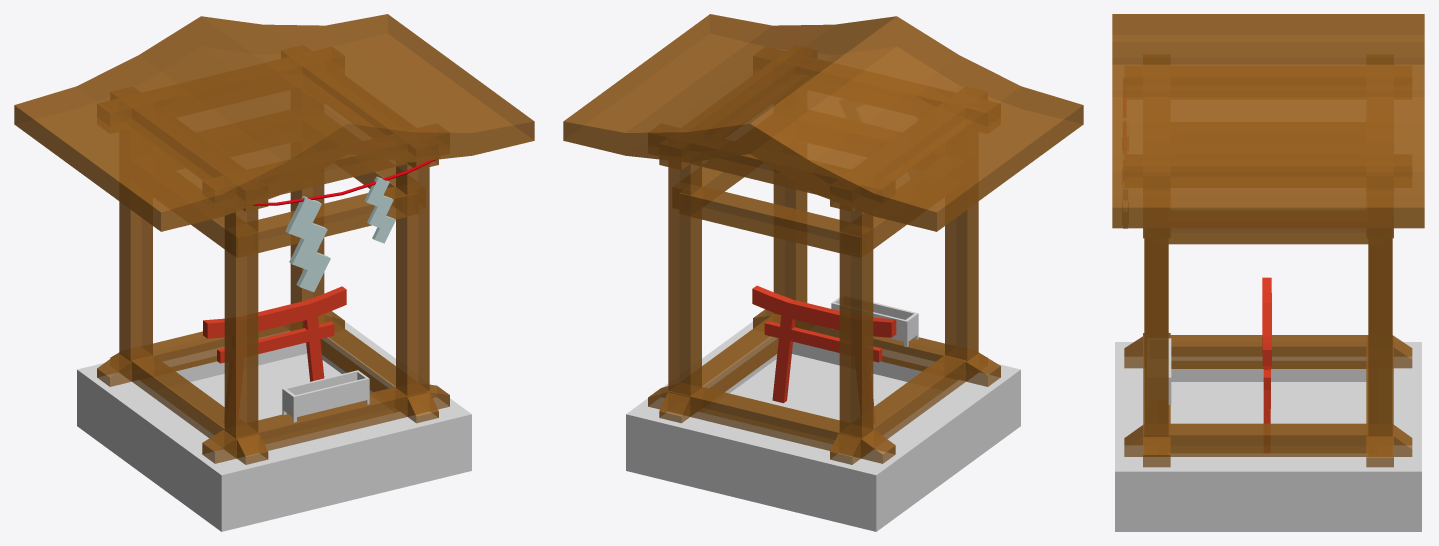
File: Japanese_1.fbx
3 renders of one model, left to right at view 1: azimuth 30°, elevation 25°; view 2: azimuth 150°, elevation 25°; view 3: azimuth 270°, elevation 25°, orthographic. The views are drawn at different scales.
Visible parts, largest first — view 1: Cube.017, Cube, Cube.001, Cube.002, Cube.007, Cube.004, Cube.005, Cube.011, Cube.015, Cube.013, Cube.014, Cube.006 (+12 smaller); view 2: Cube.017, Cube, Cube.004, Cube.003, Cube.008, Cube.012, Cube.001, Cube.005, Cube.006, Cube.014, Cube.013, Cube.007 (+9 smaller); view 3: Cube.017, Cube, Cube.006, Cube.005, Cube.014, Cube.002, Cube.003, Cube.013, Cube.010, Cube.015, Cube.016, Cube.008 (+2 smaller).
Boxes of the visible parts, x1,y1,x2,y2 form: Cube.017: (14, 14, 534, 231); Cube: (77, 321, 471, 531); Cube.001: (224, 209, 258, 457); Cube.002: (396, 164, 429, 395); Cube.007: (202, 383, 449, 463); Cube.004: (119, 201, 152, 380); Cube.005: (110, 347, 268, 464); Cube.011: (226, 186, 418, 258); Cube.015: (202, 124, 449, 203); Cube.013: (110, 87, 268, 211); Cube.014: (281, 45, 438, 170); Cube.006: (290, 314, 438, 423); Cube.017: (563, 14, 1083, 231); Cube: (626, 321, 1020, 531); Cube.004: (839, 209, 873, 457); Cube.003: (668, 164, 701, 395); Cube.008: (648, 386, 895, 463); Cube.012: (679, 186, 870, 258); Cube.001: (945, 201, 978, 380); Cube.005: (830, 352, 987, 464); Cube.006: (659, 313, 807, 423); Cube.014: (659, 45, 816, 170); Cube.013: (830, 87, 987, 211); Cube.007: (753, 309, 1000, 386); Cube.017: (1112, 14, 1424, 228); Cube: (1115, 342, 1421, 531); Cube.006: (1124, 423, 1412, 456); Cube.005: (1124, 335, 1412, 368); Cube.014: (1124, 154, 1411, 176); Cube.002: (1144, 228, 1168, 456); Cube.003: (1368, 228, 1392, 456); Cube.013: (1124, 66, 1411, 85); Cube.010: (1152, 228, 1384, 244); Cube.015: (1143, 54, 1170, 189); Cube.016: (1366, 54, 1393, 189); Cube.008: (1366, 335, 1393, 467).
Size of the model in its own units: 532 by 515 by 362.
